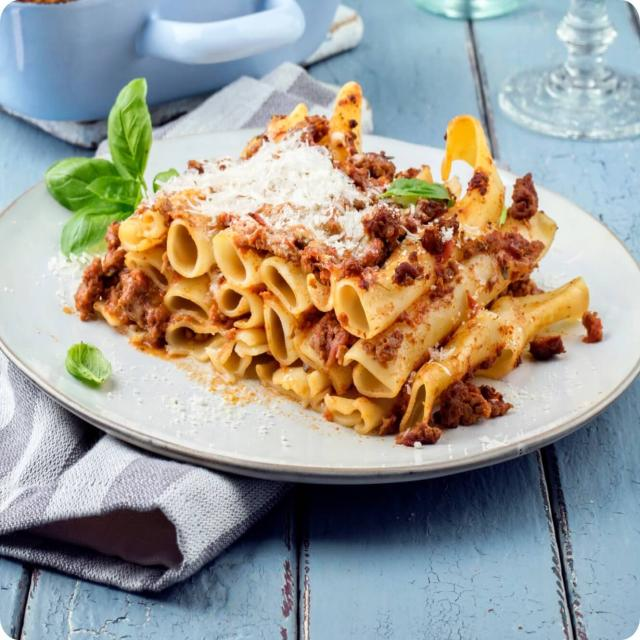pasta: (65, 80, 606, 458)
